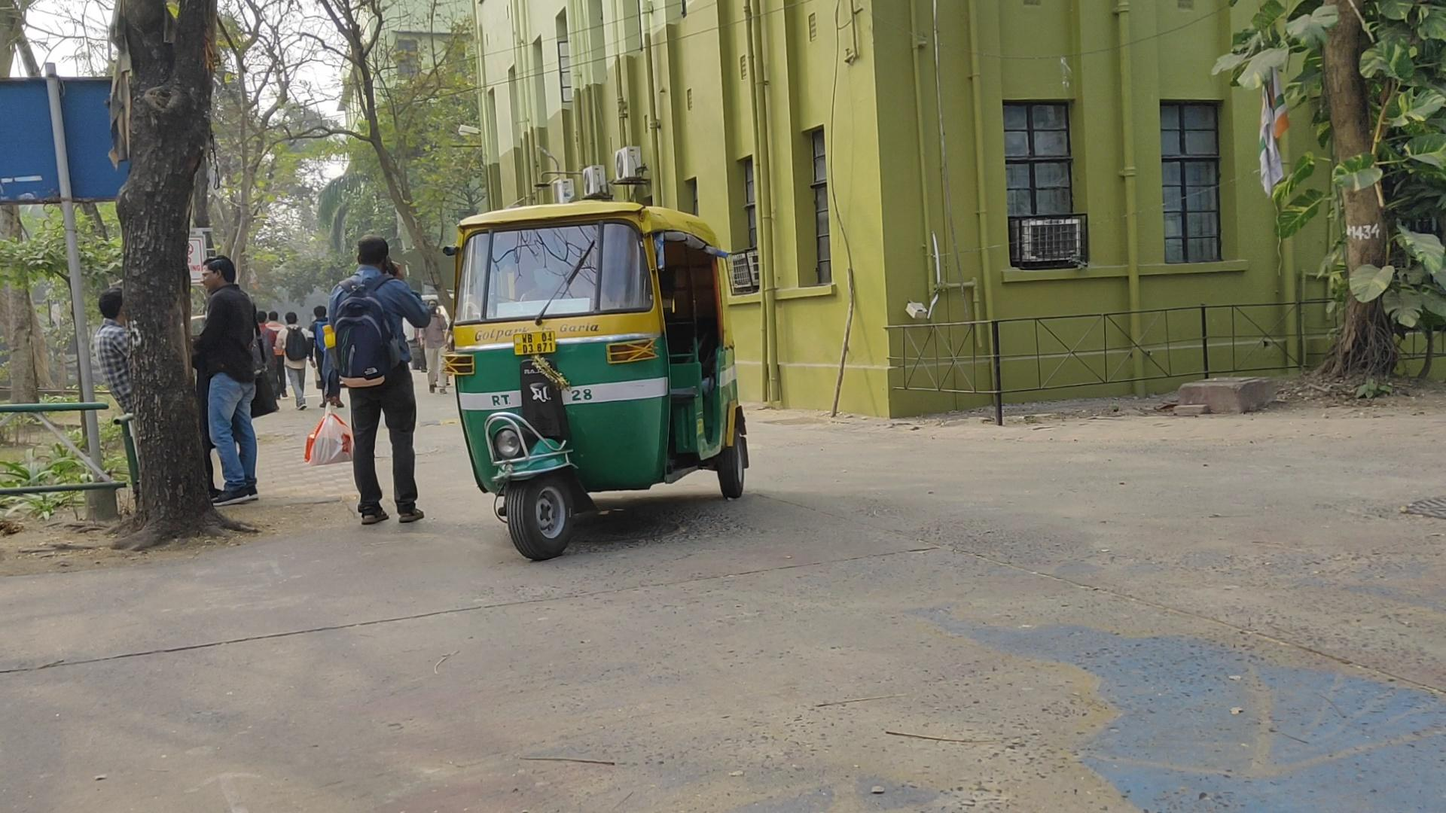Auto: (441, 199, 749, 560)
